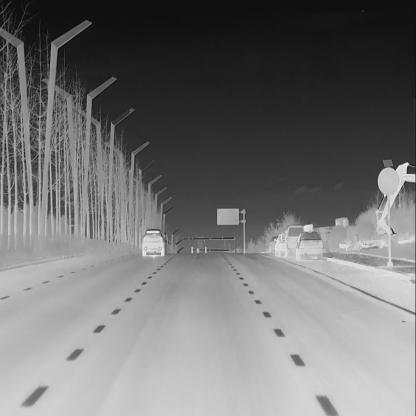car: (296, 230, 323, 262), (284, 223, 305, 258), (141, 227, 164, 256), (274, 232, 288, 256), (266, 235, 278, 255)
